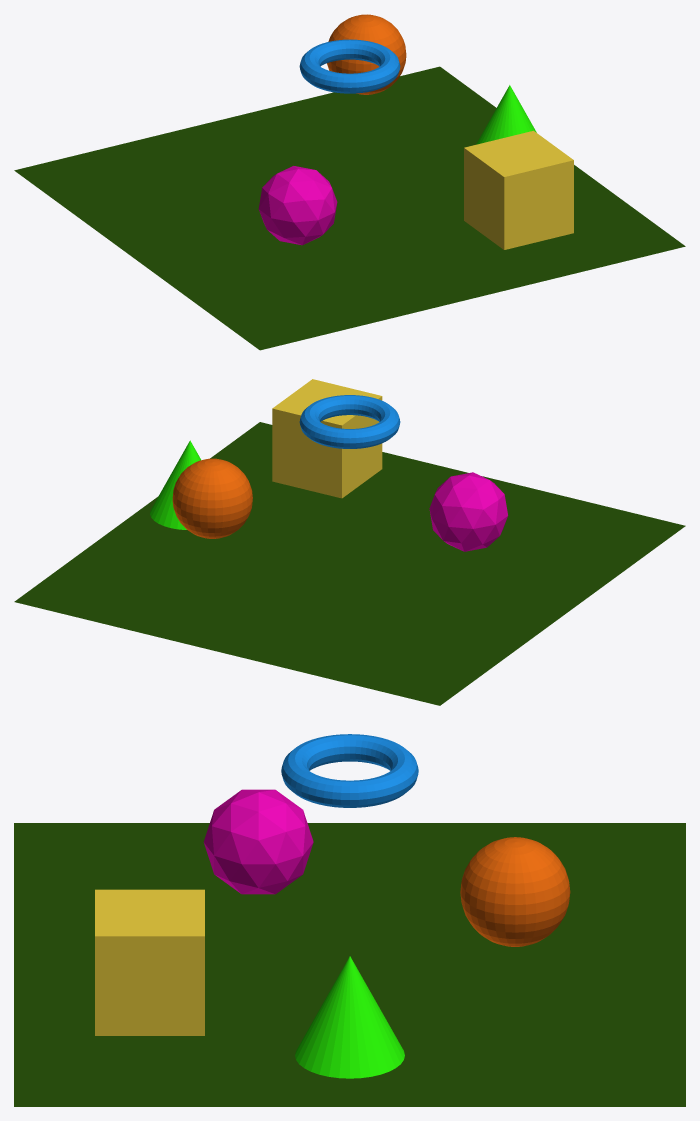
The model's file is simpleobject.glb.
3 renders of one model, top to bottom at view 1: azimuth 30°, elevation 25°; view 2: azimuth 150°, elevation 25°; view 3: azimuth 270°, elevation 25°, orthographic. The views are drawn at different scales.
Visible parts, largest first — view 1: Plane, Cube, Icosphere, Torus, Sphere, Cone; view 2: Plane, Cube, Sphere, Icosphere, Torus, Cone; view 3: Plane, Cube, Sphere, Icosphere, Cone, Torus.
Boxes of the visible parts, x1=… form: Plane: x1=14, y1=66, x2=685, y2=350; Cube: x1=464, y1=130, x2=573, y2=249; Icosphere: x1=258, y1=166, x2=337, y2=245; Torus: x1=299, y1=39, x2=400, y2=93; Sphere: x1=327, y1=14, x2=406, y2=94; Cone: x1=476, y1=85, x2=536, y2=144; Plane: x1=14, y1=422, x2=685, y2=705; Cube: x1=272, y1=379, x2=382, y2=498; Sphere: x1=172, y1=458, x2=252, y2=538; Icosphere: x1=429, y1=472, x2=507, y2=551; Torus: x1=299, y1=395, x2=400, y2=448; Cone: x1=150, y1=440, x2=200, y2=529; Plane: x1=14, y1=823, x2=685, y2=1106; Cube: x1=95, y1=889, x2=204, y2=1035; Sphere: x1=460, y1=837, x2=570, y2=946; Icosphere: x1=203, y1=789, x2=313, y2=894; Cone: x1=295, y1=956, x2=404, y2=1078; Torus: x1=281, y1=734, x2=418, y2=807.
Bounding box in the file's own units: 12.21 × 4.14 × 12.21.
